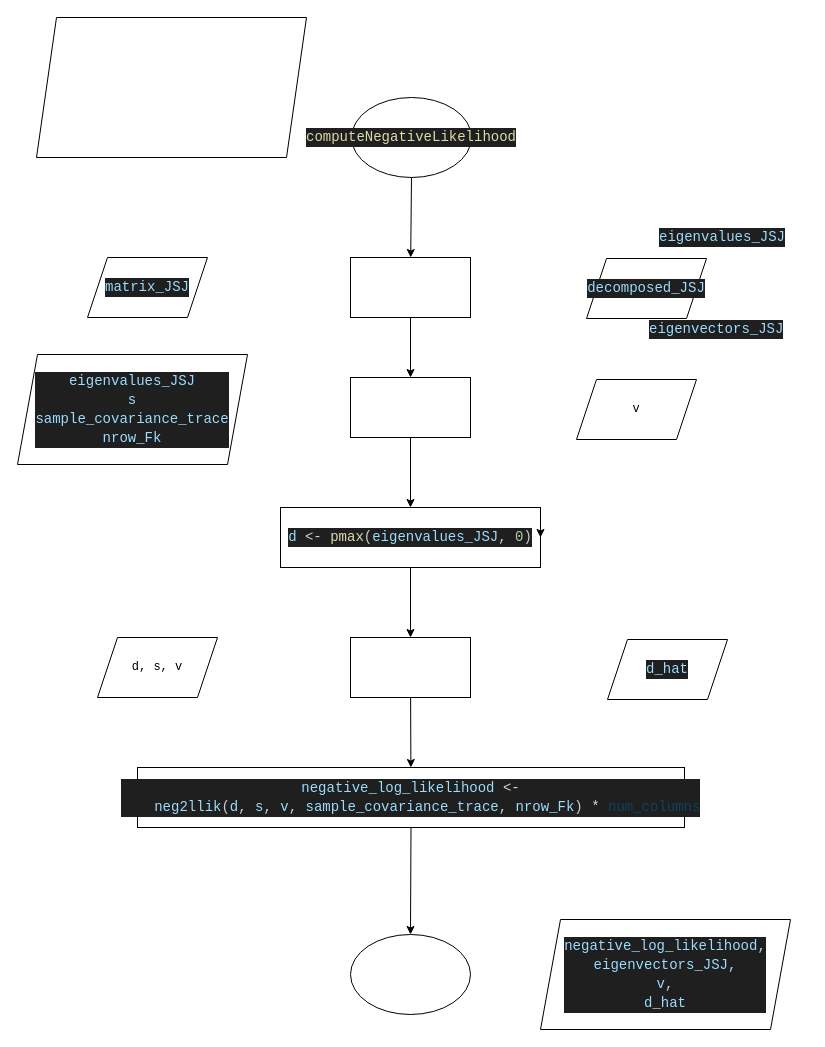
Some shapes in this 825 by 1047 pixel diagram are drawn without their labels. The shapes that lost their labels are listed below. From the top down, each one's centre as x and y in pixels, then its label:
the point at 171,87: nrow_Fk ncol_Fk s num_columns matrix_JSJ sample_covariance_trace
the point at 410,287: eigenDecomposeInDecreasingOrder
the point at 410,407: estimateV
the point at 410,667: estimateEta
the point at 410,974: Return
